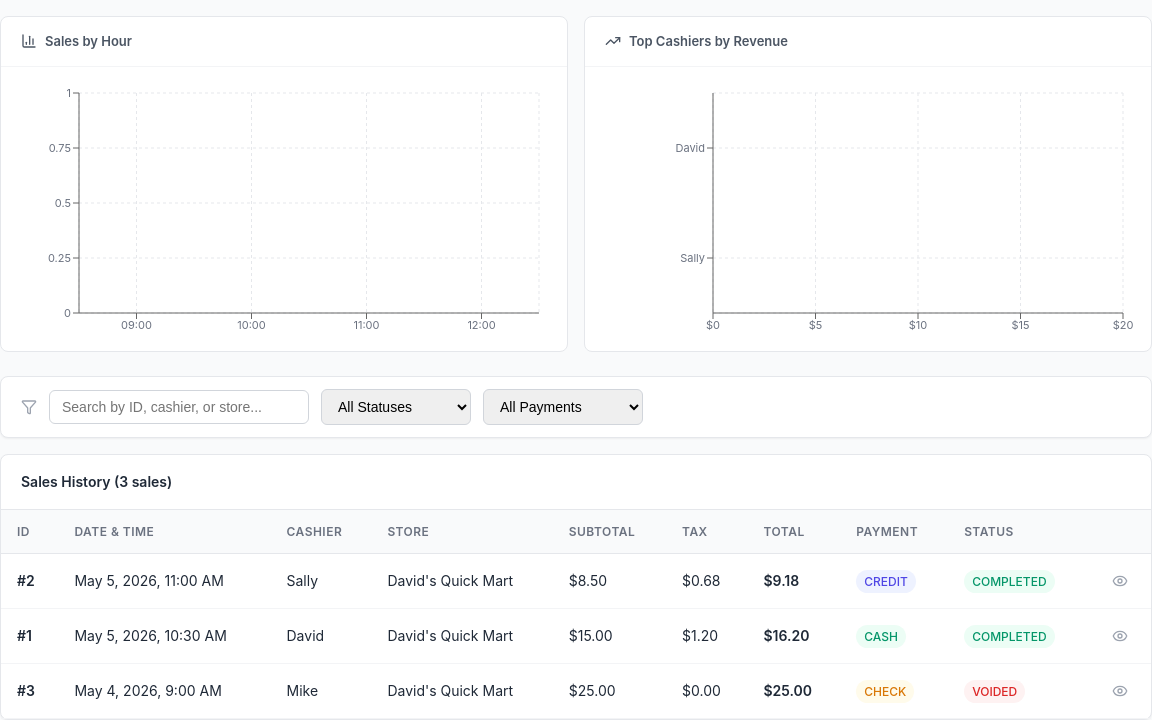
Reports › displays line items and payments in detail modal
The width and height of the screenshot is (1152, 720).
(page scrolled)
Expected: the text "#1" is shown, left=1, top=609, right=58, bottom=664
Click the button titled "View details" in the row of "May 5, 2026, 11:00 AM": [1120, 581] box left=1105, top=566, right=1135, bottom=596
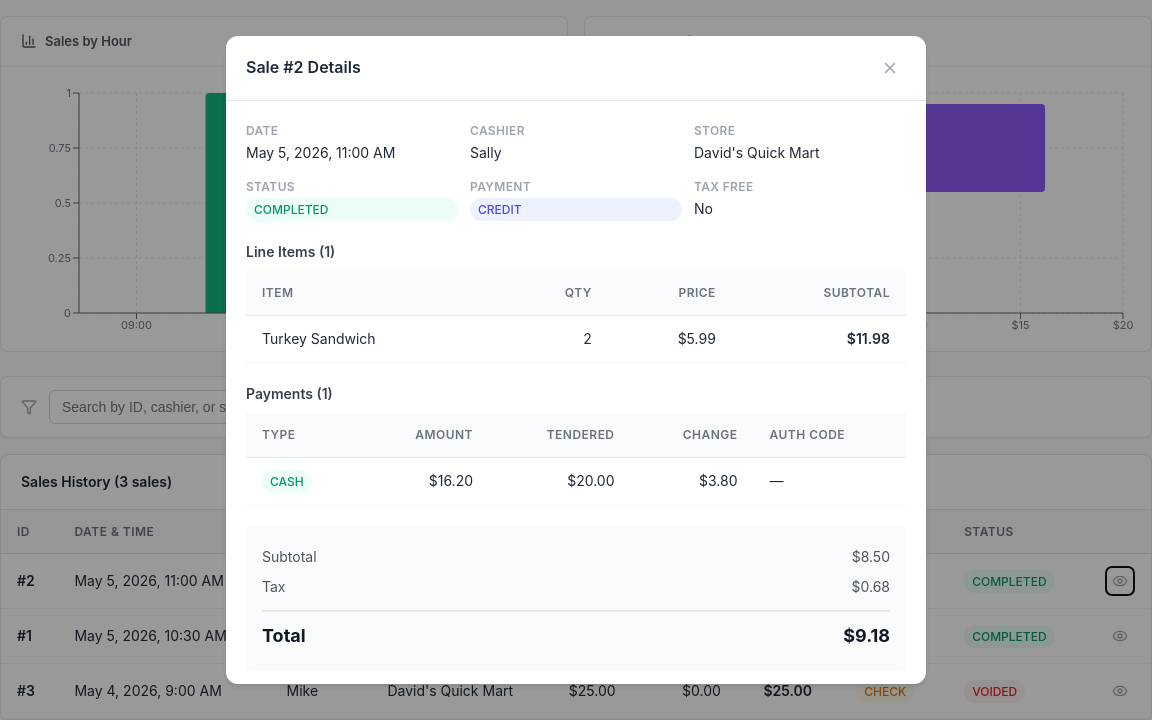
Expected: the text "Turkey Sandwich" is shown, left=246, top=315, right=504, bottom=362
Expected: the text "$11.98" is shown, left=732, top=315, right=906, bottom=362
Expected: the text "$20.00" is shown, left=489, top=457, right=630, bottom=505
